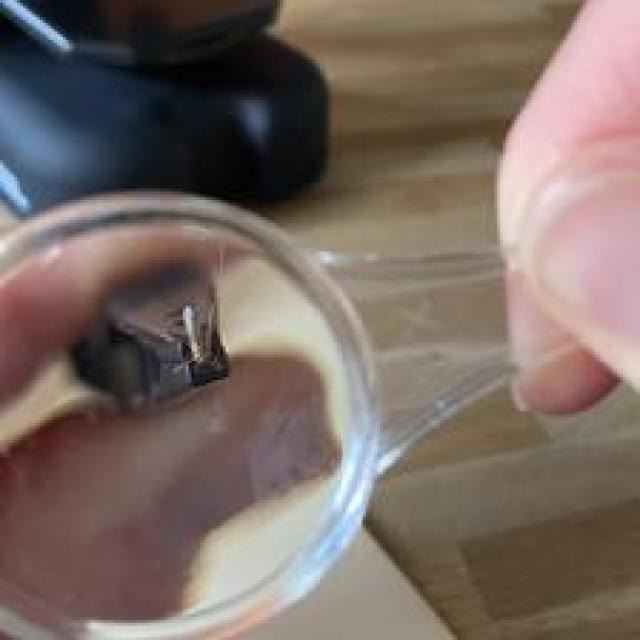Culex: (0, 0, 331, 223)
